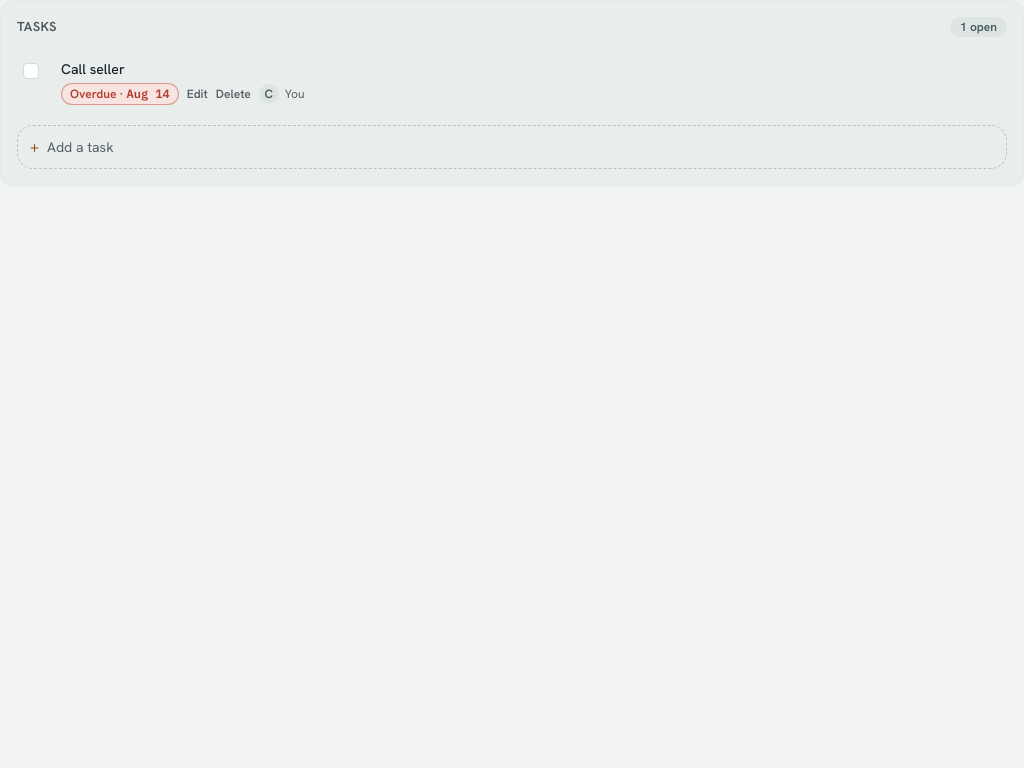
Test: TSK-05: delete is a two-click inline confirm (pr F-1) › TSK-05: a rejected delete rolls back and toasts
Expected: the text "Call seller" is shown, x1=61 y1=60 x2=125 y2=78
Click the button named "delete \"call seller\"" at (233, 94), box x1=216 y1=86 x2=251 y2=102
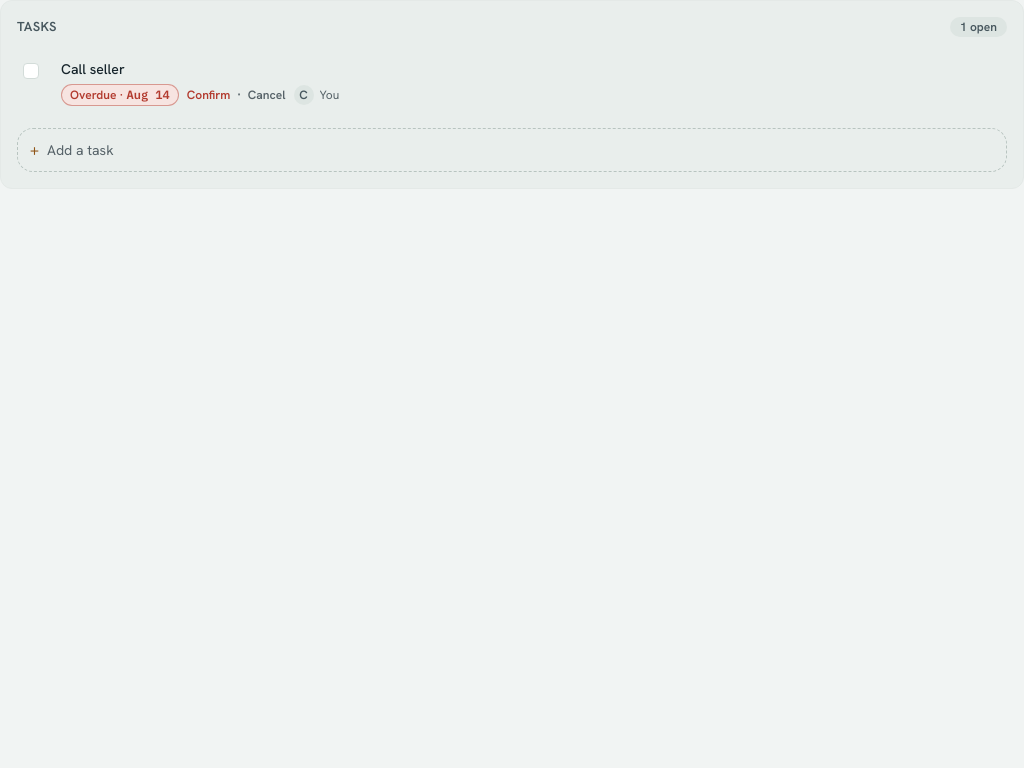
Click the button named "confirm delete \"call seller\"" at (209, 95), box x1=187 y1=87 x2=230 y2=103
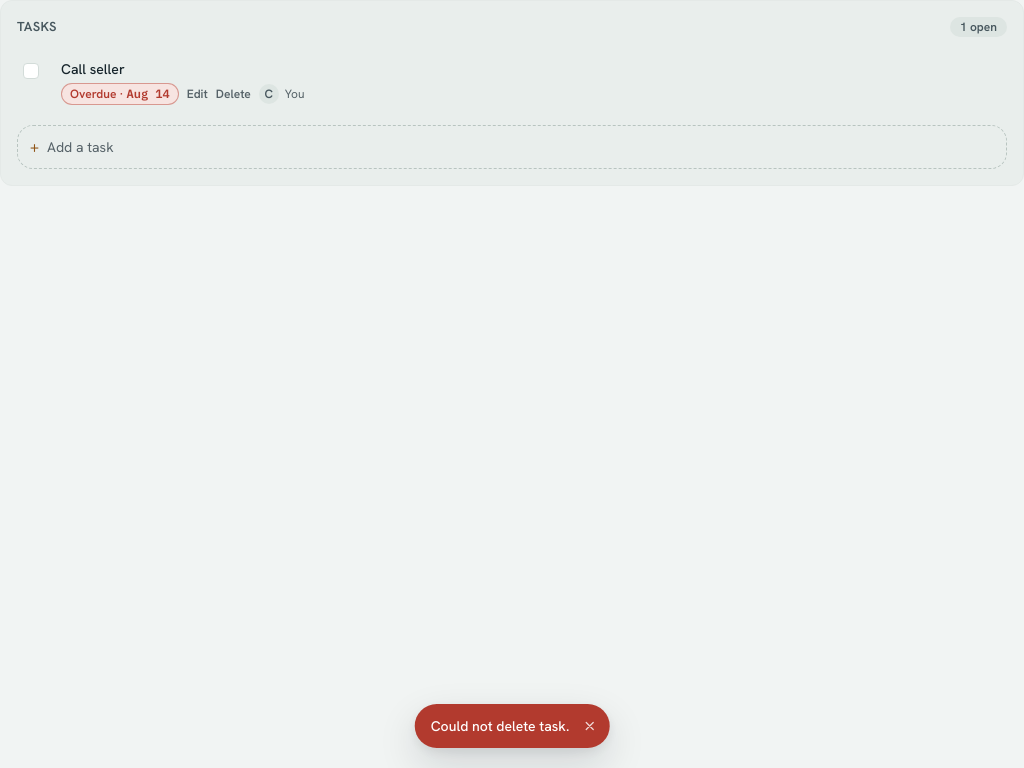
Expected: the text "Call seller" is shown, x1=61 y1=60 x2=125 y2=78
Expected: the text "Could not delete task." is shown, x1=431 y1=716 x2=569 y2=736
